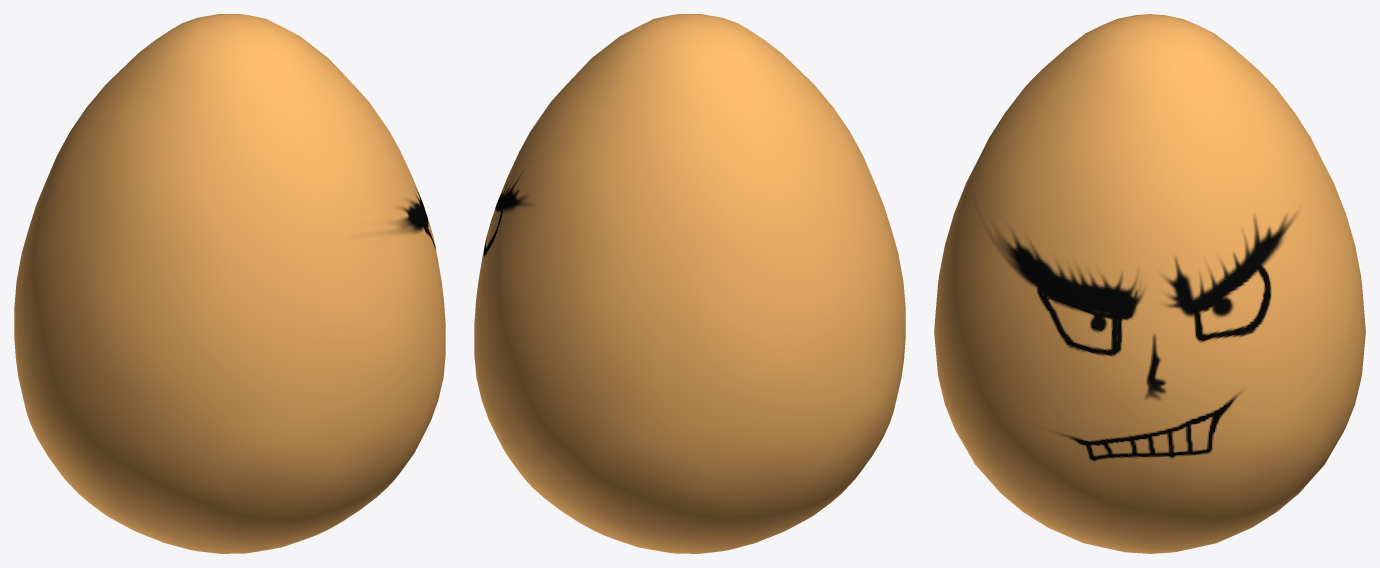
Rendered from egg.fbx.
3 views of the same model, side by side, from view 1: azimuth 30°, elevation 25°; view 2: azimuth 150°, elevation 25°; view 3: azimuth 270°, elevation 25° (orthographic).
Visible parts, largest first — view 1: eg_body; view 2: eg_body; view 3: eg_body.
Part boxes in pixels (bbox=[...]): eg_body: bbox=[14, 14, 445, 553]; eg_body: bbox=[474, 14, 905, 553]; eg_body: bbox=[934, 14, 1365, 553].
Size of the model in its own units: 185 by 241 by 185.
Materials: 1 (1 with a texture image).
